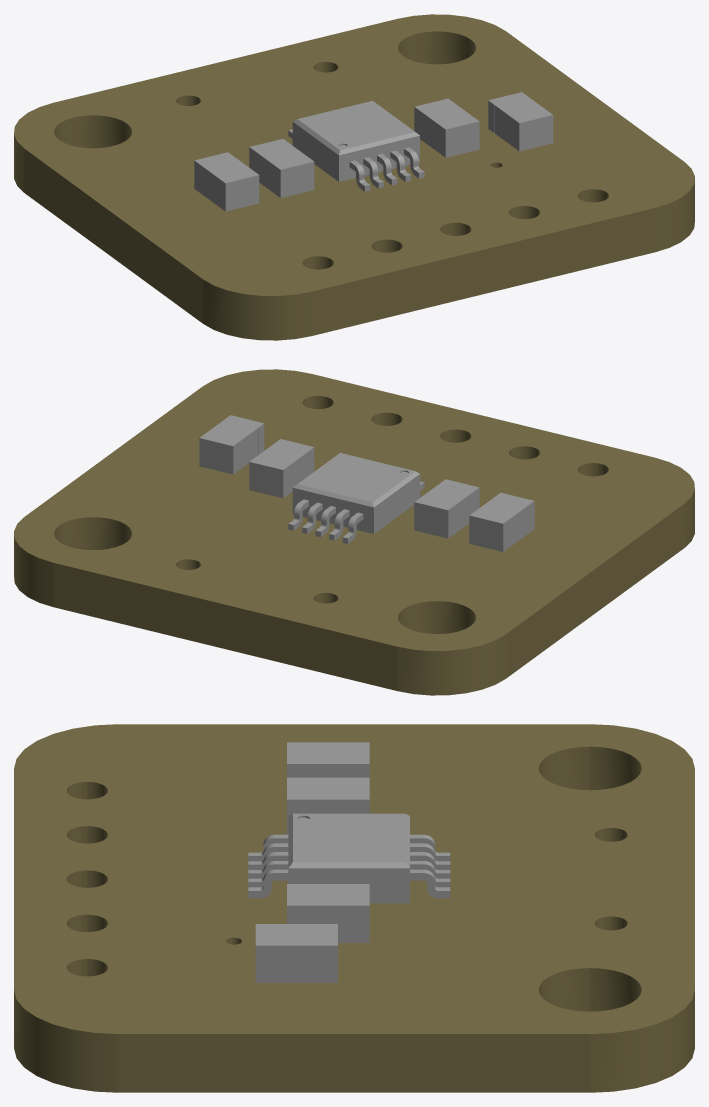
File: ada-2305.glb
The picture shows the model from 3 angles, top to bottom: view 1: azimuth 30°, elevation 25°; view 2: azimuth 150°, elevation 25°; view 3: azimuth 270°, elevation 25°; orthographic projection. The views are drawn at different scales.
Visible parts, largest first — view 1: 0.16666666666666666_0.16666666666666666_0.08333333333333333_, 0.3333333333333333_0.3333333333333333_0.3333333333333333_0; view 2: 0.16666666666666666_0.16666666666666666_0.08333333333333333_, 0.3333333333333333_0.3333333333333333_0.3333333333333333_0; view 3: 0.16666666666666666_0.16666666666666666_0.08333333333333333_, 0.3333333333333333_0.3333333333333333_0.3333333333333333_0.
Part boxes in pixels (<box>): 0.16666666666666666_0.16666666666666666_0.08333333333333333_: <box>14,14,694,340</box>; 0.3333333333333333_0.3333333333333333_0.3333333333333333_0: <box>194,92,553,211</box>; 0.16666666666666666_0.16666666666666666_0.08333333333333333_: <box>14,369,694,695</box>; 0.3333333333333333_0.3333333333333333_0.3333333333333333_0: <box>199,415,534,551</box>; 0.16666666666666666_0.16666666666666666_0.08333333333333333_: <box>14,724,694,1092</box>; 0.3333333333333333_0.3333333333333333_0.3333333333333333_0: <box>248,742,450,982</box>.
Bounding box in the file's own units: 1.78 × 0.2669 × 1.65.
